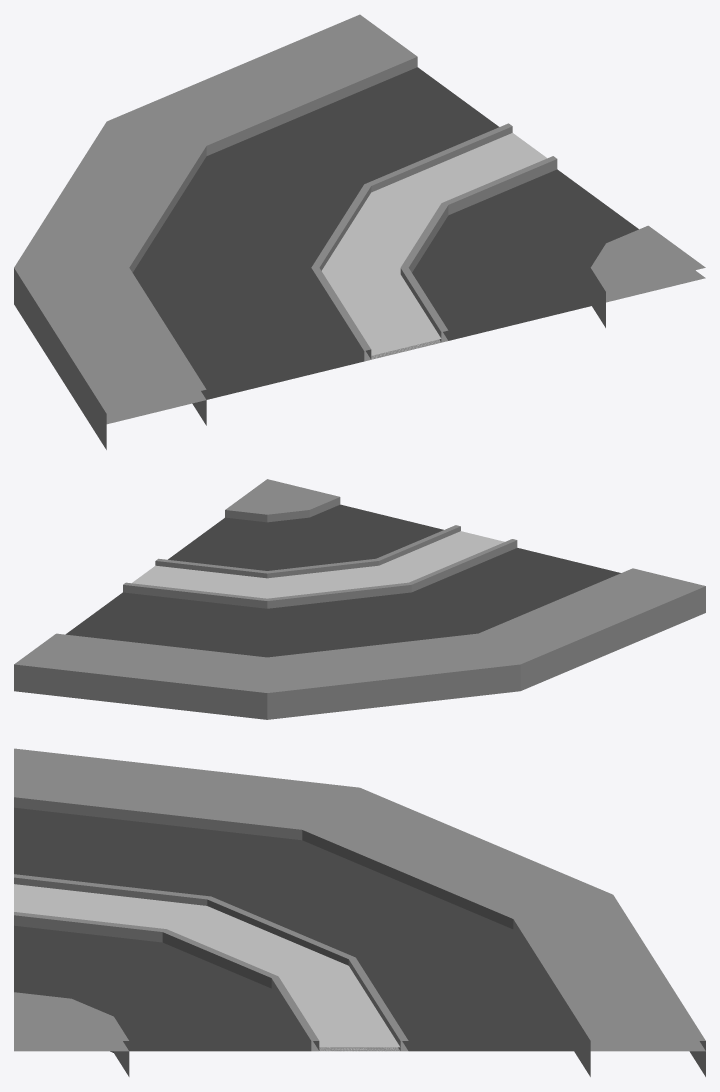
The picture shows the model from 3 angles, top to bottom: view 1: azimuth 30°, elevation 25°; view 2: azimuth 150°, elevation 25°; view 3: azimuth 270°, elevation 25°; orthographic projection. The views are drawn at different scales.
Parts seen in each view (by area): view 1: Model_0, Skybox, Grass; view 2: Model_0, Skybox, Grass; view 3: Model_0, Skybox, Grass.
Boxes of the visible parts, <box> form: Model_0: <box>14,14,705,449</box>; Skybox: <box>106,75,705,424</box>; Grass: <box>322,133,547,355</box>; Model_0: <box>14,479,705,719</box>; Skybox: <box>102,505,618,657</box>; Grass: <box>132,531,504,598</box>; Model_0: <box>14,748,705,1076</box>; Skybox: <box>14,808,705,1051</box>; Grass: <box>14,884,399,1047</box>.
Size of what is drawn, in the model's own units: 2400 by 140 by 2400.
